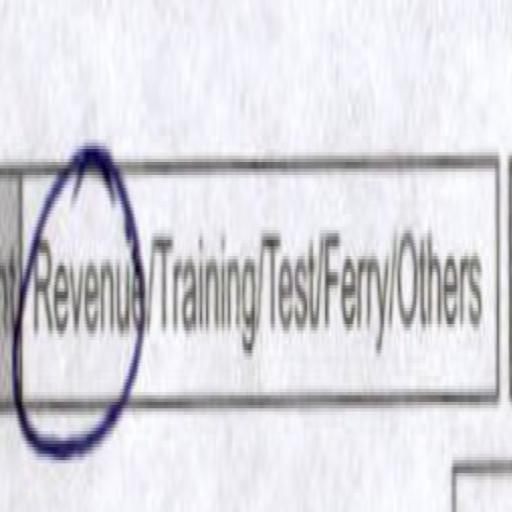check: (21, 136, 146, 444)
